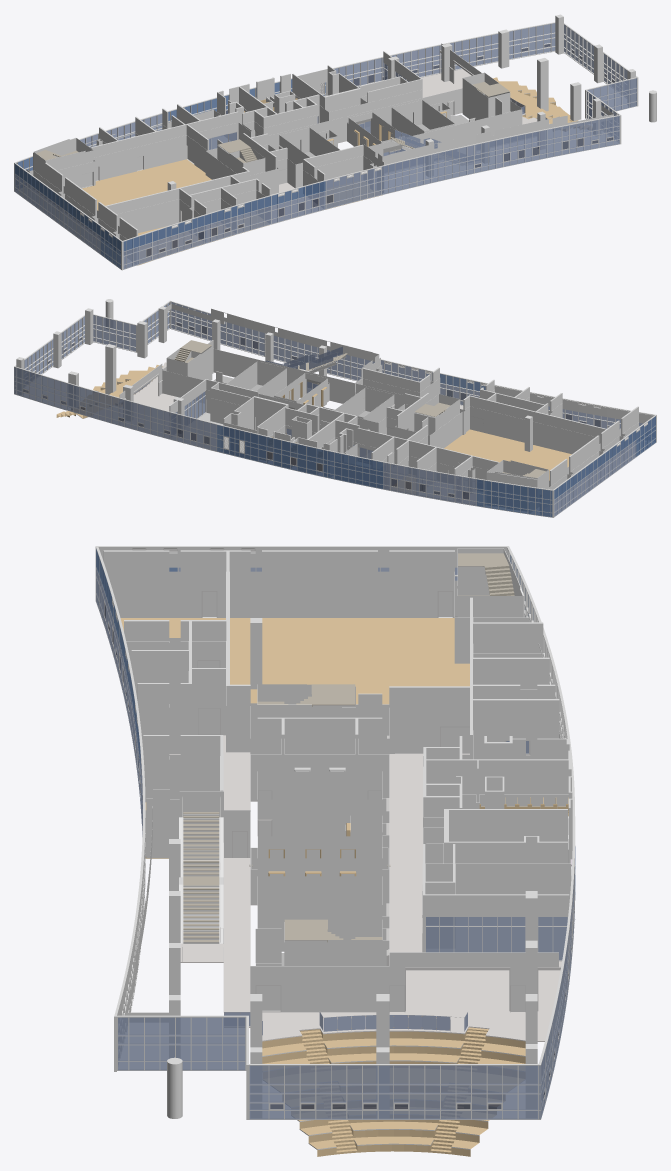
3 views of the same model, one above another, from view 1: azimuth 30°, elevation 25°; view 2: azimuth 150°, elevation 25°; view 3: azimuth 270°, elevation 25° (orthographic). The views are drawn at different scales.
Visible parts, largest first — view 1: A8_2F_Wall, A8_2F_WindowGlass, A8_2F_WindowFrame, A8_2F_Floor, A8_2F_Pillar, A8_2F_ExternalObject, A8_2F_Stair, A8_2F_Door, A8_2F_InnerFence; view 2: A8_2F_Wall, A8_2F_WindowGlass, A8_2F_WindowFrame, A8_2F_Floor, A8_2F_Pillar, A8_2F_ExternalObject, A8_2F_Stair, A8_2F_Door, A8_2F_InnerFence, A8_2F_Elev., A8_2F_Vent; view 3: A8_2F_Wall, A8_2F_Floor, A8_2F_Stair, A8_2F_WindowGlass, A8_2F_WindowFrame, A8_2F_Pillar, A8_2F_Door, A8_2F_ExternalObject, A8_2F_InnerFence, A8_2F_Elev..
Boxes of the visible parts, x1,y1,x2,y2 form: A8_2F_Wall: [26, 43, 522, 265]; A8_2F_WindowGlass: [14, 23, 636, 269]; A8_2F_WindowFrame: [14, 22, 638, 270]; A8_2F_Floor: [18, 69, 549, 267]; A8_2F_Pillar: [167, 14, 656, 190]; A8_2F_ExternalObject: [16, 105, 613, 250]; A8_2F_Stair: [36, 77, 592, 164]; A8_2F_Door: [45, 66, 475, 232]; A8_2F_InnerFence: [390, 97, 547, 148]; A8_2F_Wall: [119, 340, 638, 513]; A8_2F_WindowGlass: [14, 302, 655, 517]; A8_2F_WindowFrame: [14, 300, 656, 517]; A8_2F_Floor: [94, 362, 652, 515]; A8_2F_Pillar: [16, 299, 532, 451]; A8_2F_ExternalObject: [153, 303, 654, 517]; A8_2F_Stair: [56, 340, 545, 477]; A8_2F_Door: [158, 371, 613, 494]; A8_2F_InnerFence: [133, 346, 342, 394]; A8_2F_Elev.: [281, 381, 326, 406]; A8_2F_Vent: [224, 361, 647, 453]; A8_2F_Wall: [103, 548, 572, 1012]; A8_2F_Floor: [120, 616, 572, 1041]; A8_2F_Stair: [179, 553, 525, 1156]; A8_2F_WindowGlass: [96, 549, 575, 1119]; A8_2F_WindowFrame: [95, 546, 575, 1119]; A8_2F_Pillar: [167, 618, 537, 1118]; A8_2F_Door: [197, 591, 537, 1012]; A8_2F_ExternalObject: [99, 548, 575, 1021]; A8_2F_InnerFence: [182, 797, 468, 1035]; A8_2F_Elev.: [268, 767, 356, 876].
Size of the model in its own units: 86.7 by 11.4 by 33.89.
